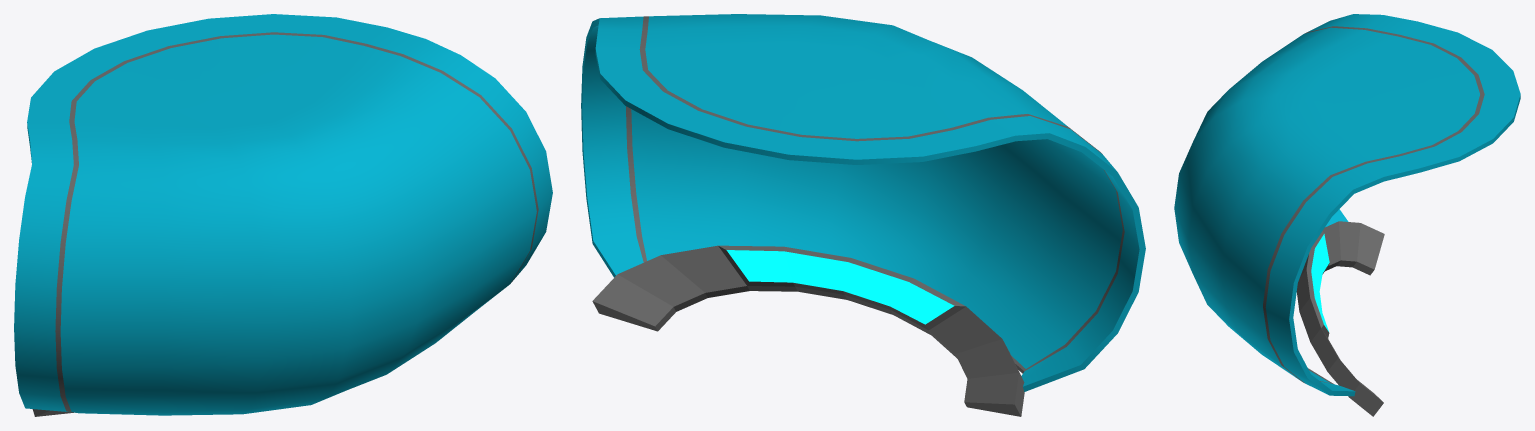
The model's file is windShield.fbx.
3 views of the same model, side by side, from view 1: azimuth 30°, elevation 25°; view 2: azimuth 150°, elevation 25°; view 3: azimuth 270°, elevation 25° (orthographic). The views are drawn at different scales.
Parts seen in each view (by area): view 1: windshield; view 2: windshield; view 3: windshield.
Part boxes in pixels (box(x1,y1,x2,y2)): windshield: box(14, 14, 552, 416); windshield: box(581, 14, 1145, 416); windshield: box(1174, 14, 1520, 416).
Size of the model in its own units: 5.64 by 2.83 by 3.66.
